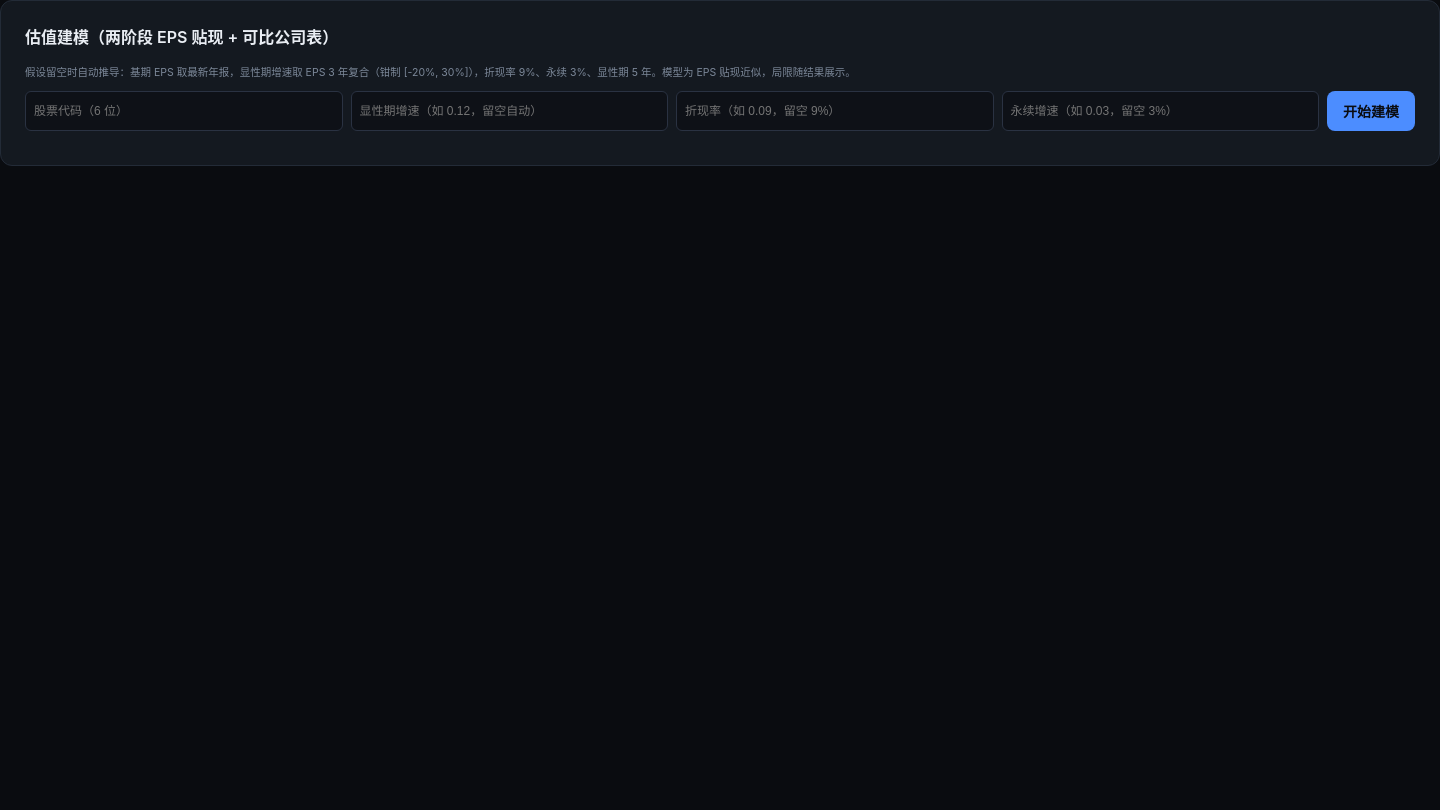
Test: ValuationPanel —— 结果渲染 › 折价时隐含溢价为负值并着绿（与全站 signCls 一致）
The image size is (1440, 810).
In the field named "待估值的股票代码（6 位数字）": (184, 111) [25,91,342,131], type "600519"
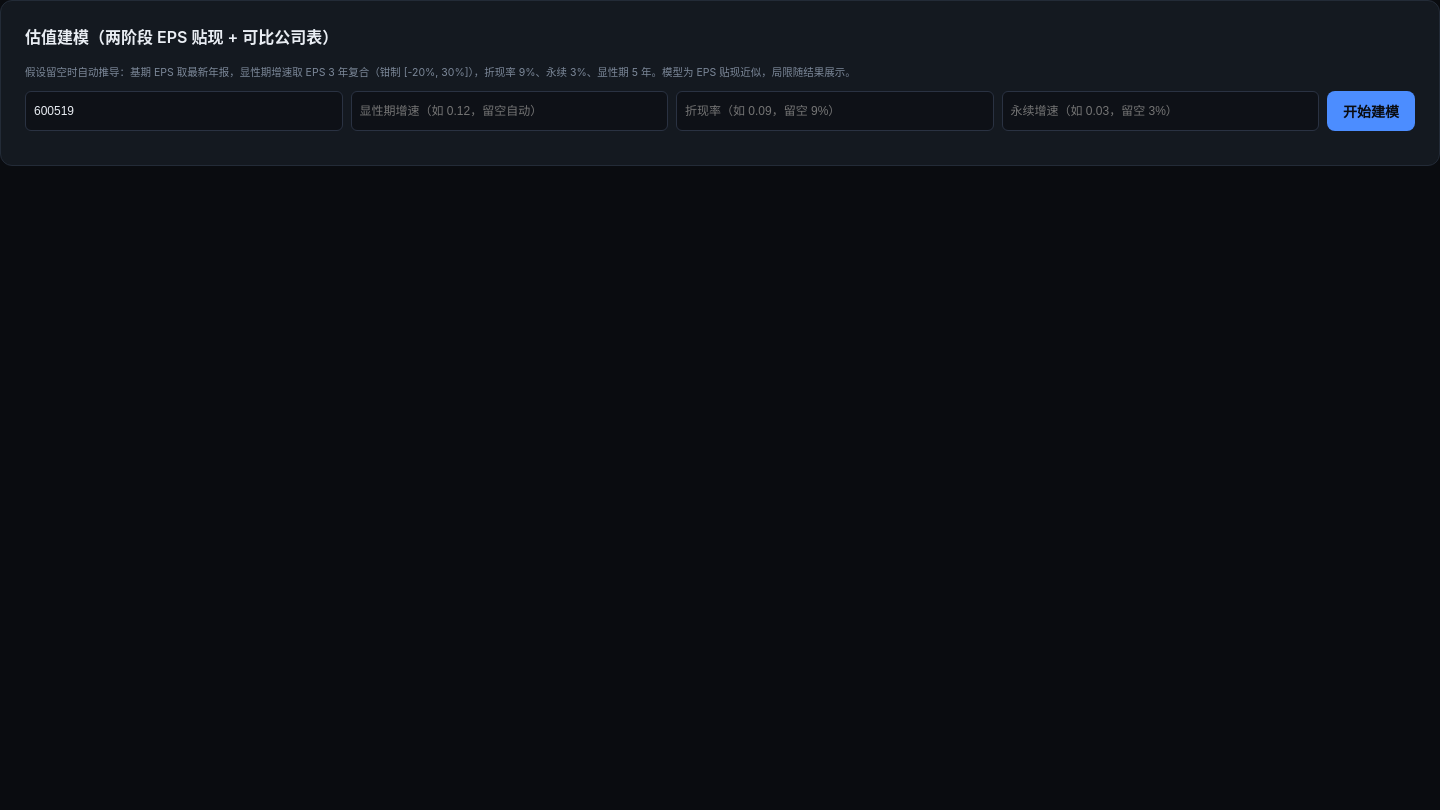
Click the button "开始建模": (1371, 111) [1327,91,1415,131]
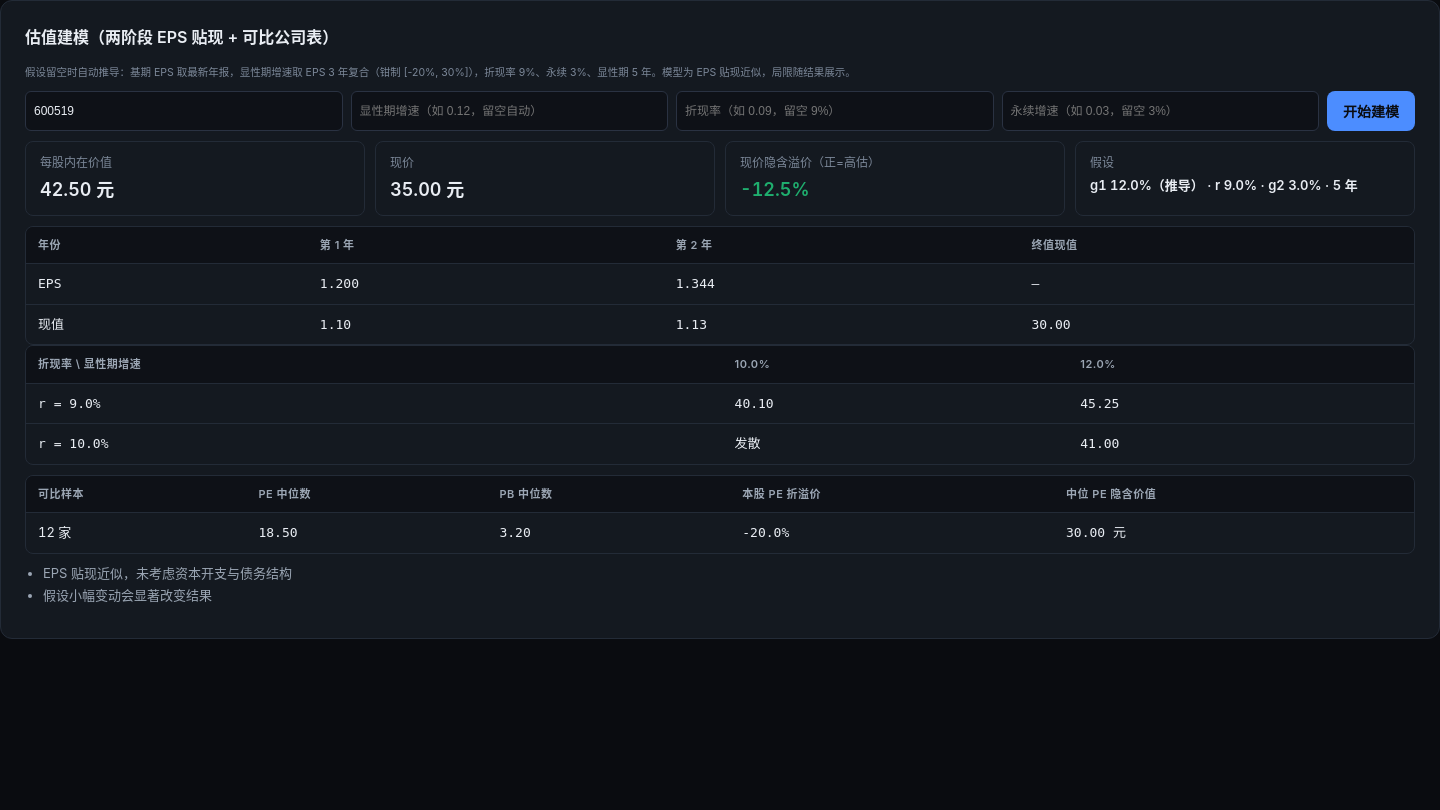
Result: the text "每股内在价值" is shown at [40,155,112,170]
Result: the text "-12.5%" is shown at [740,179,810,200]
